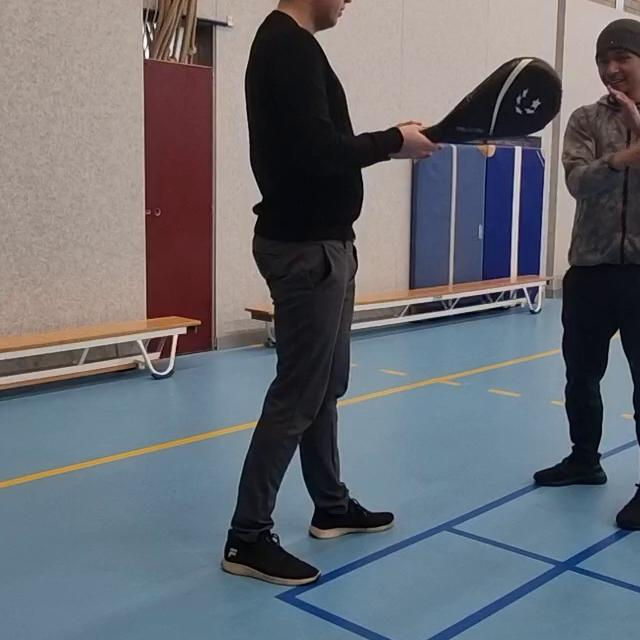paddle: (412, 52, 566, 152)
